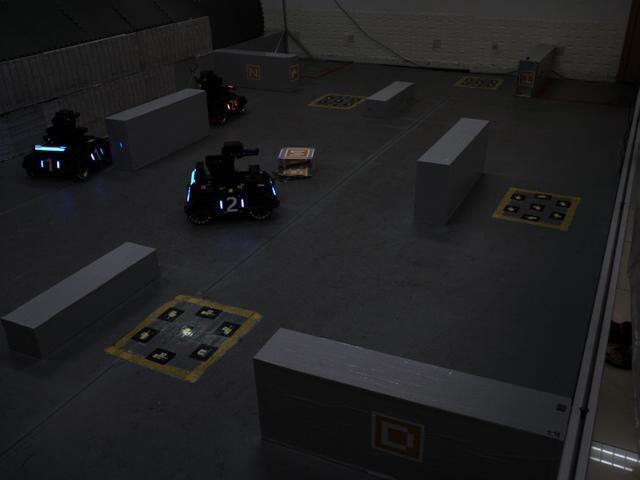armor: (215, 193, 249, 216), (36, 155, 64, 175), (84, 143, 109, 165), (223, 94, 241, 115)
